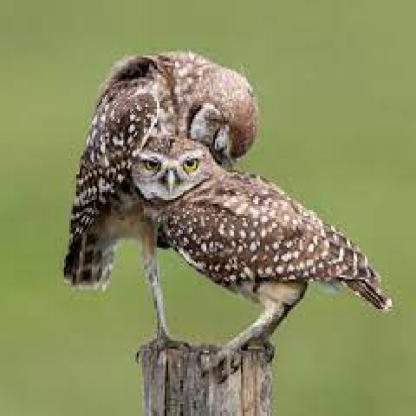owl: (132, 103, 365, 394), (46, 0, 228, 300)
